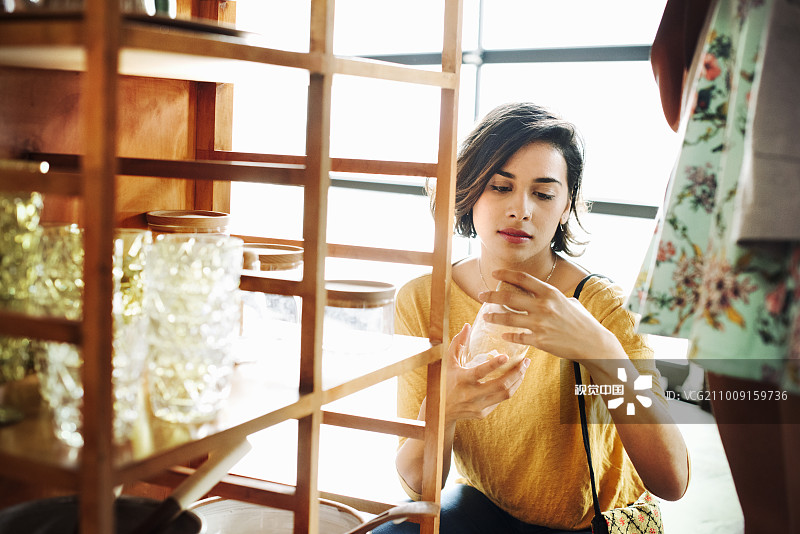no-phone: (469, 262, 637, 364), (430, 320, 536, 431)
